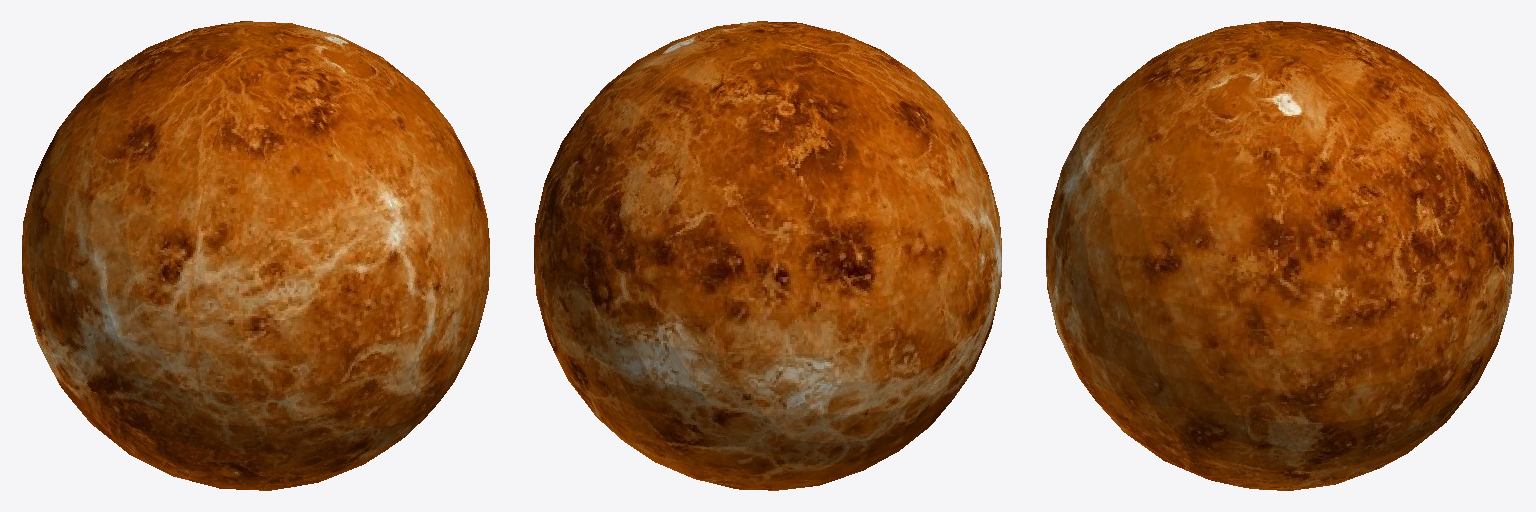
3 views of the same model, side by side, from view 1: azimuth 30°, elevation 25°; view 2: azimuth 150°, elevation 25°; view 3: azimuth 270°, elevation 25° (orthographic).
Bounding box in the file's own units: 2 × 2 × 1.99.
1 materials, 1 textured.